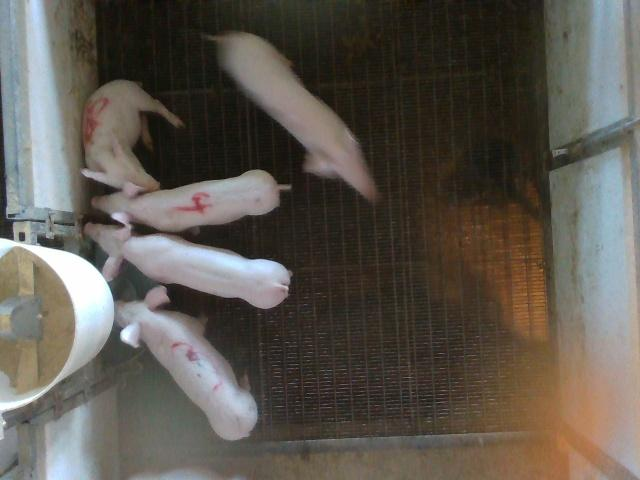pig-2: (208, 32, 379, 201)
pig-3: (116, 285, 256, 439)
pig-4: (92, 170, 290, 232)
pig-5: (81, 80, 184, 191)
